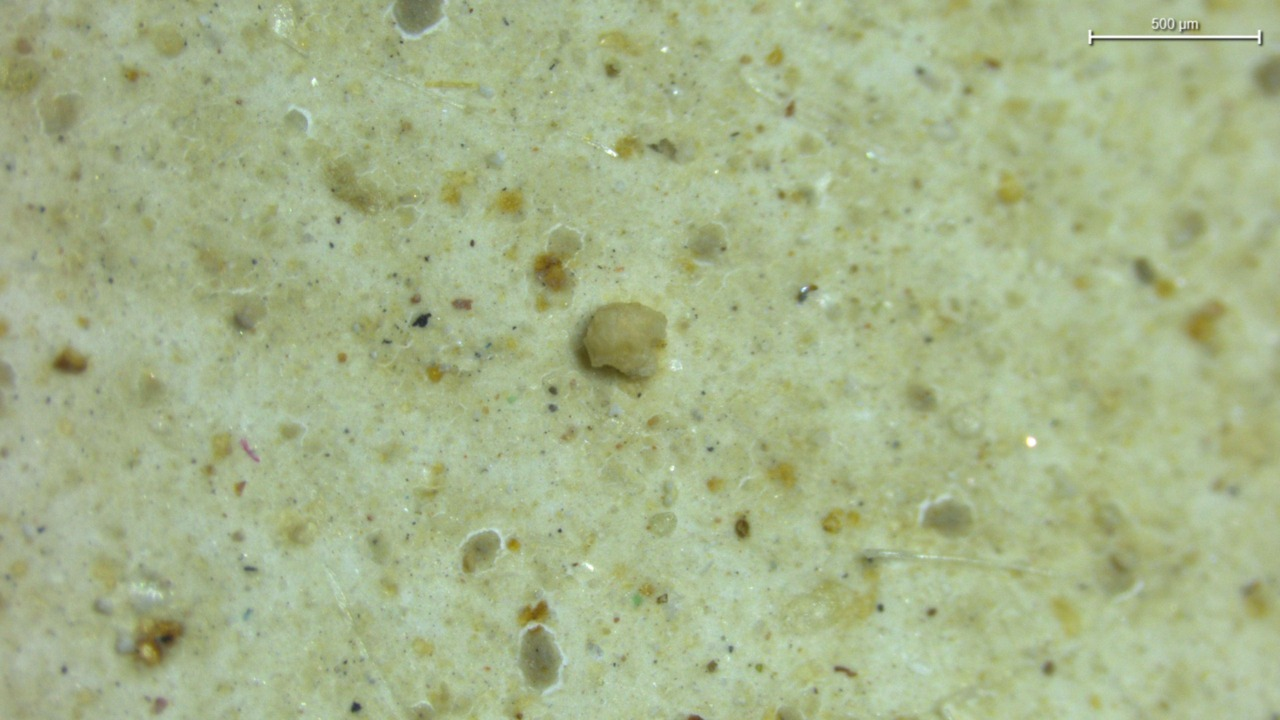microplastic_fragment: (583, 303, 666, 378)
